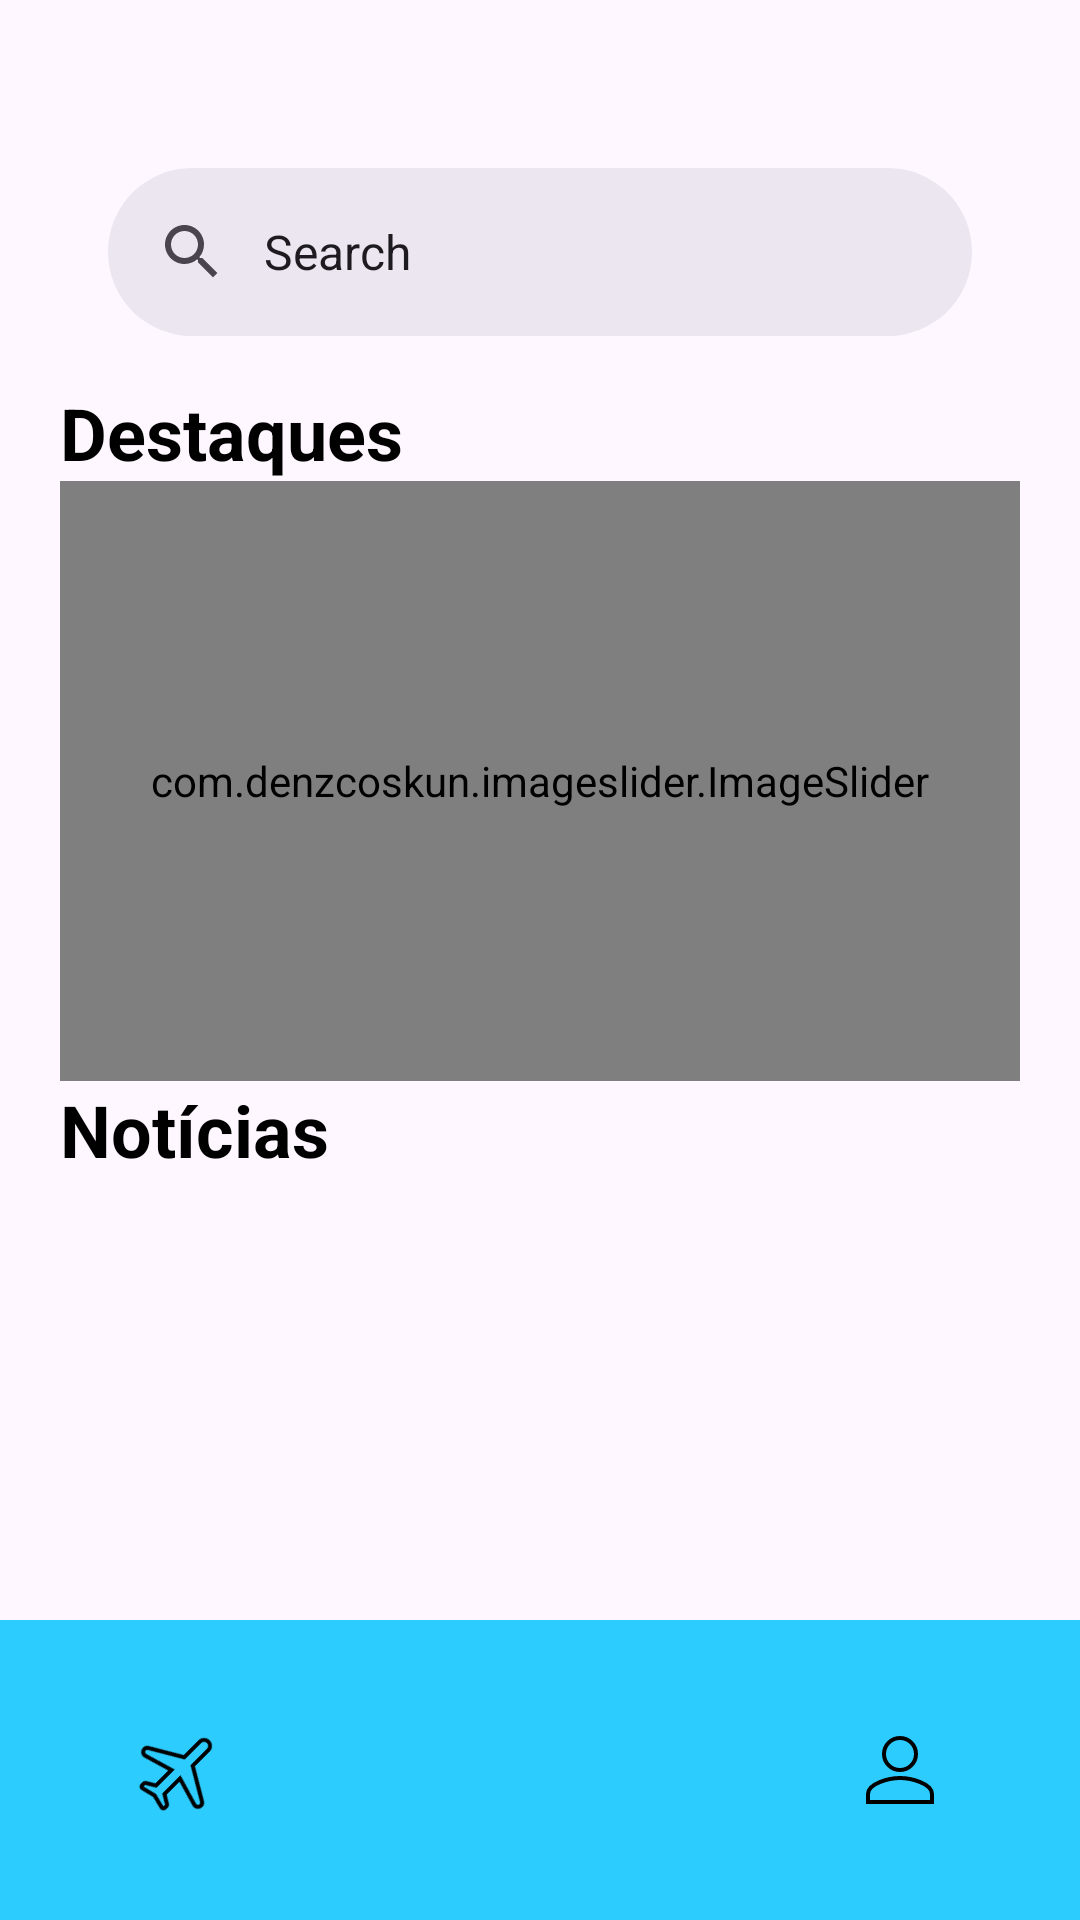

Icon click points for this 1080x1920 phone screenshot, format point (x, y):
Perfil: point (900, 1770)
